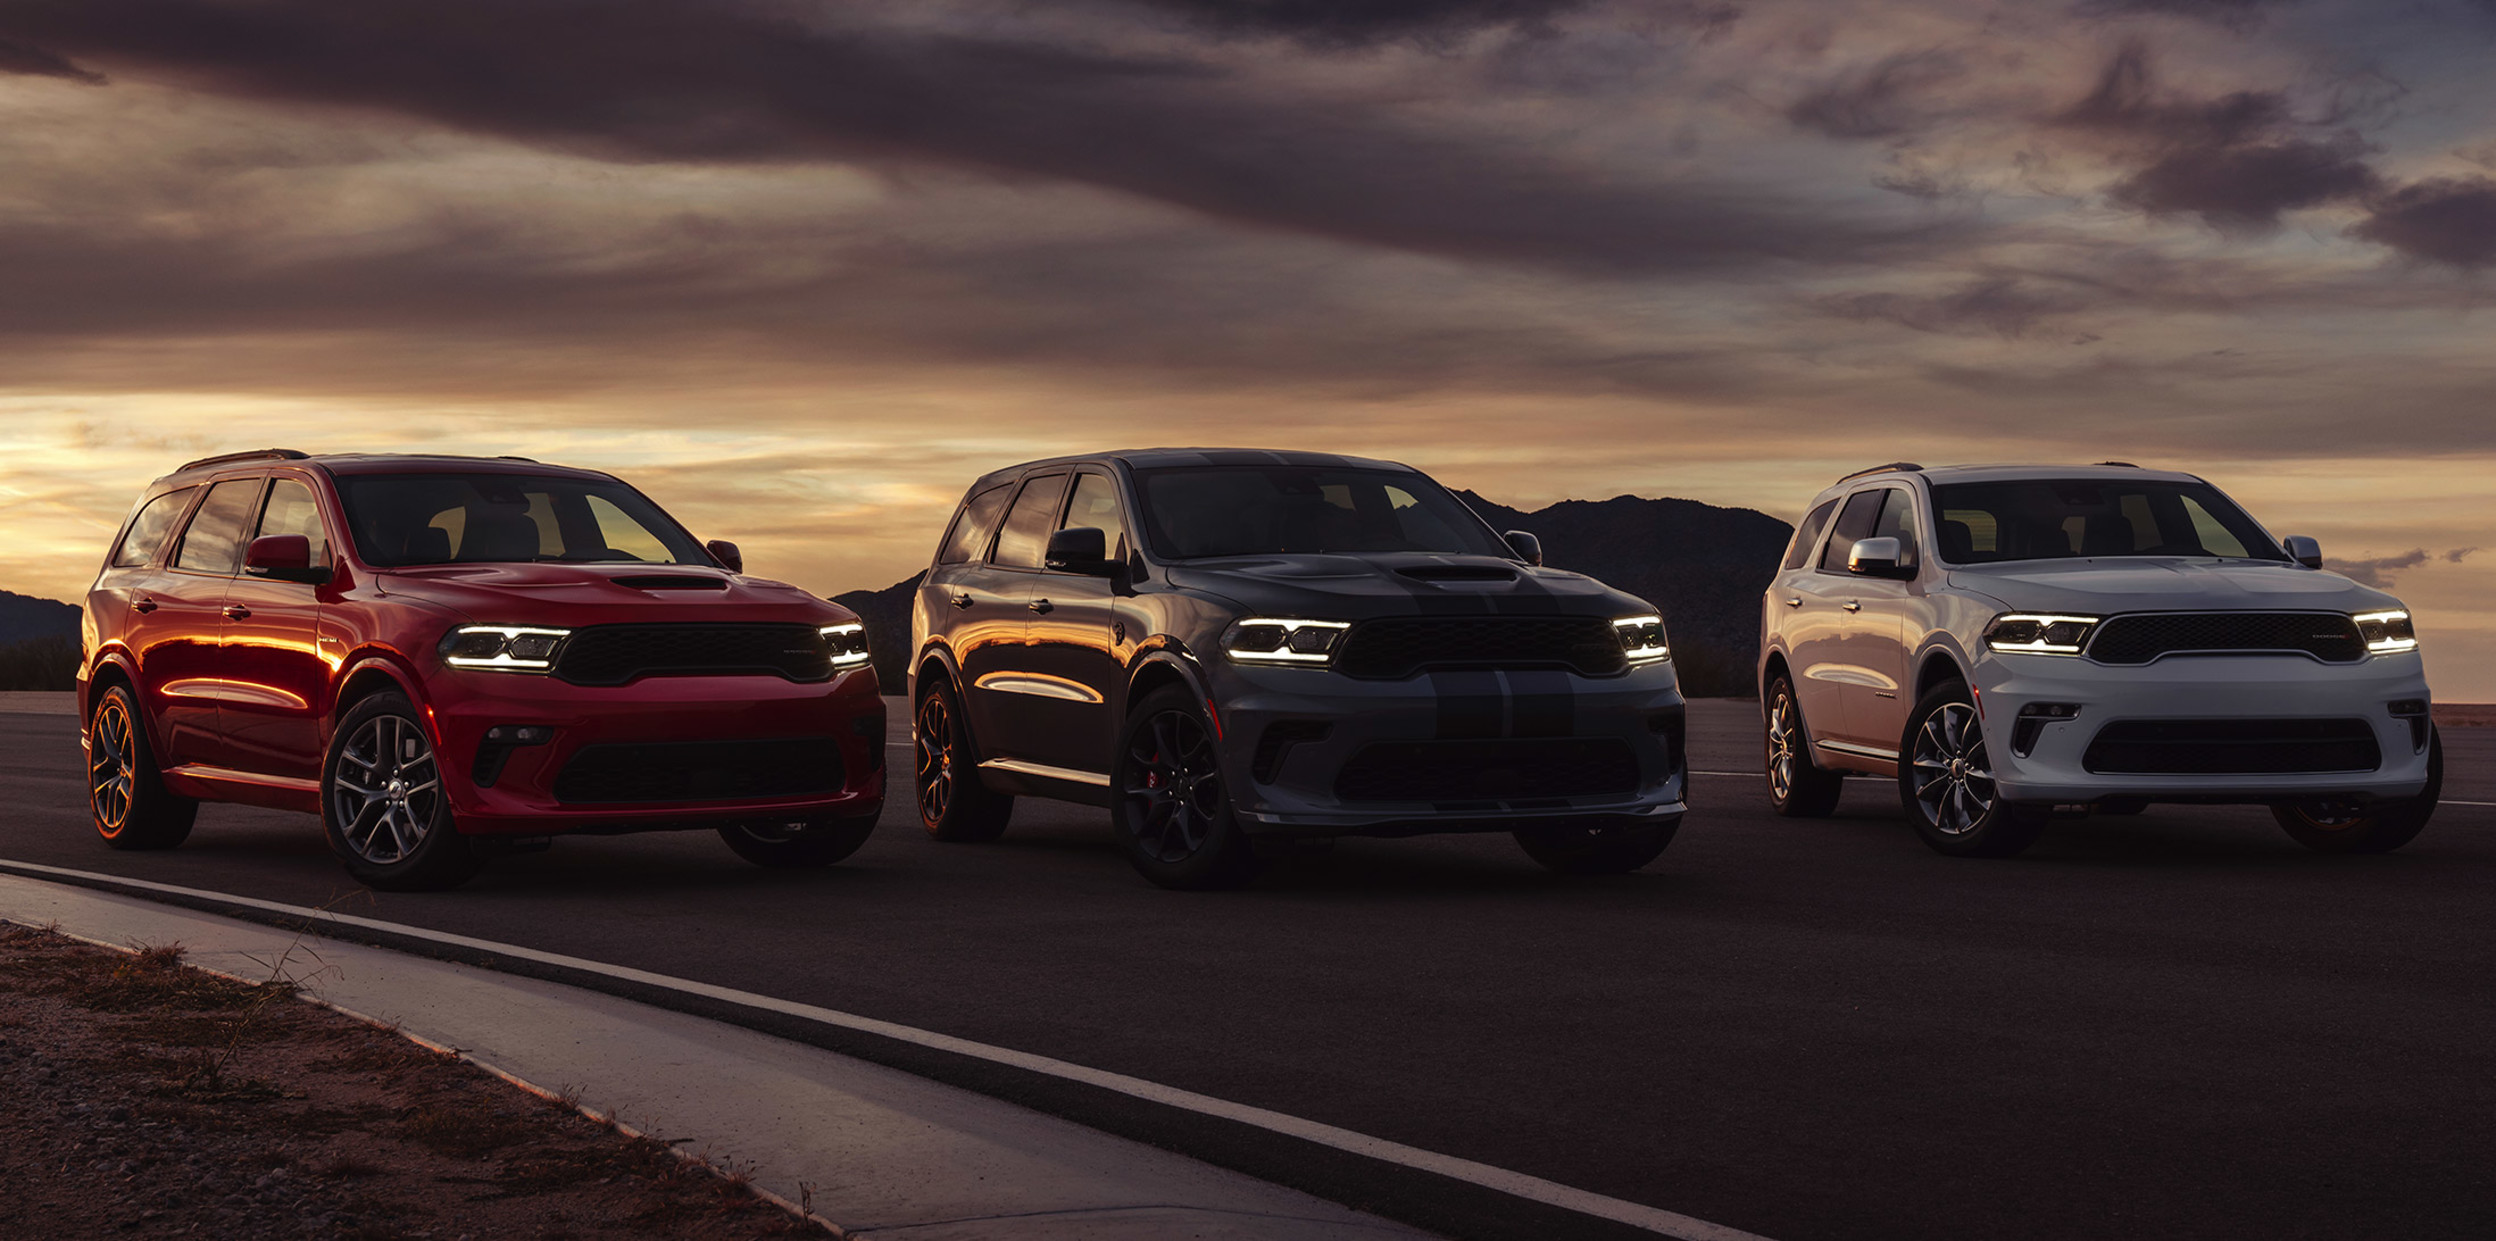car: (75, 449, 891, 891), (906, 449, 1691, 888), (1754, 460, 2447, 861)
